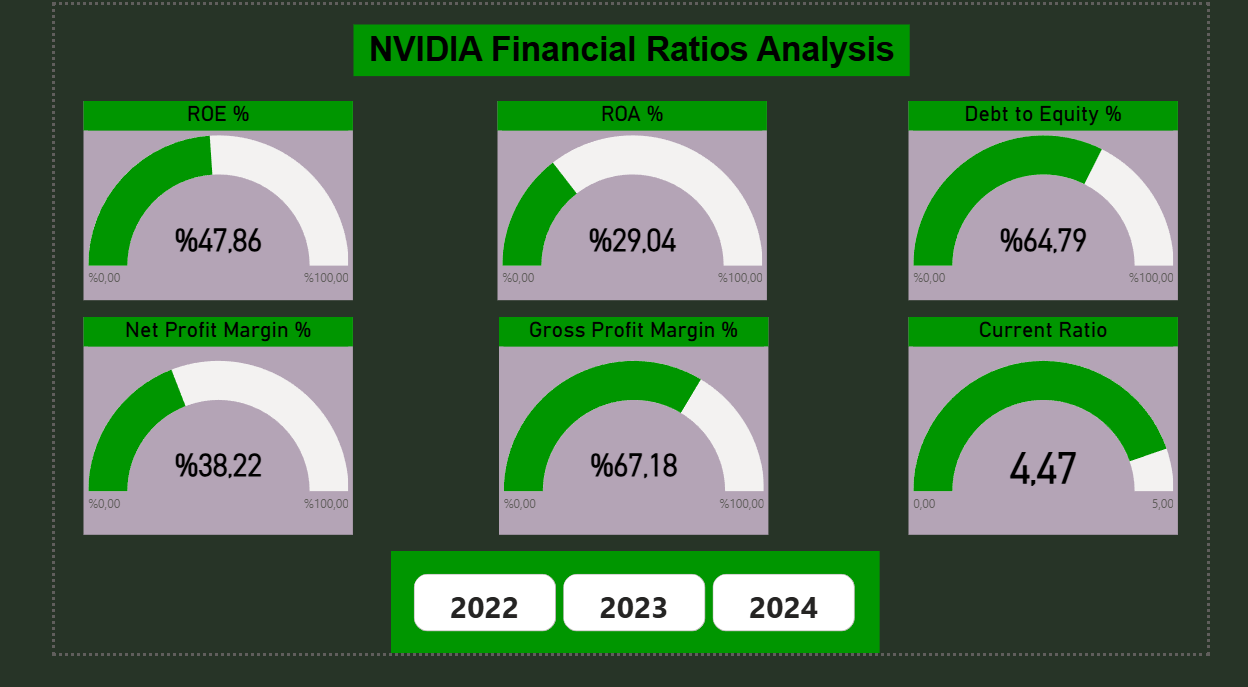

The page's visual inventory and layout, read from the dashboard file:
{"tool":"powerbi","page":{"name":"NVIDIA Financial Ratios Analysis","canvas":[1280,720],"ordinal":4},"visuals":[{"type":"textbox","box":[330.9,21.1,618.2,57.2],"z":0},{"type":"gauge","fields":{"Y":["KPI_Table.ROE %"]},"box":[31.6,106.8,299.3,221.1],"z":1},{"type":"gauge","title":"ROA %","fields":{"Y":["KPI_Table.ROA"]},"box":[491.8,106.8,299.3,221.1],"z":2},{"type":"gauge","title":"Debt to Equity %","fields":{"Y":["KPI_Table.Debt to Equity Ratio"]},"box":[949.1,106.8,299.3,221.1],"z":3},{"type":"gauge","title":"Net Profit Margin %","fields":{"Y":["KPI_Table.Net Margin %"]},"box":[31.6,345.9,299.3,242.2],"z":4},{"type":"gauge","title":"Gross Profit Margin %","fields":{"Y":["KPI_Table.Gross Margin %"]},"box":[493.3,345.9,299.3,242.2],"z":5},{"type":"gauge","title":"Current Ratio","fields":{"Y":["KPI_Table.Current Ratio"]},"box":[949.1,345.9,299.3,242.2],"z":6},{"type":"advancedSlicerVisual","fields":{"Values":["Dim_Year.Year"]},"box":[373,606.2,543,114.3],"z":7}]}

Visuals, with their boxes in screenshot pixels (x1, y1, x2, y2), scaled from the page's 1280x720 canvas onto the 1248x687 screenshot:
textbox: 323:20:925:75
gauge - KPI_Table.ROE %: 31:102:323:313
"ROA %" gauge: 480:102:771:313
"Debt to Equity %" gauge: 925:102:1217:313
"Net Profit Margin %" gauge: 31:330:323:561
"Gross Profit Margin %" gauge: 481:330:773:561
"Current Ratio" gauge: 925:330:1217:561
advancedSlicerVisual - Dim_Year.Year: 364:578:893:686
